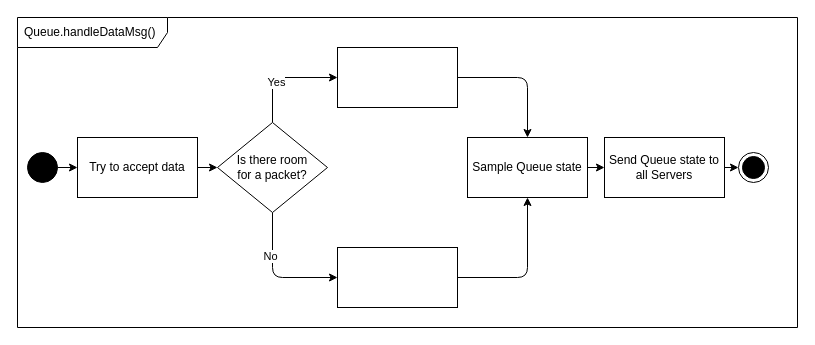
This 815x345 diagram has some shape labels left out. The shapes that lost their labels are listed below. From the top down, each one's centre as x and y in pixels, then its label:
[397,77]: Queue packet in data buffer
[397,277]: Drop packet
